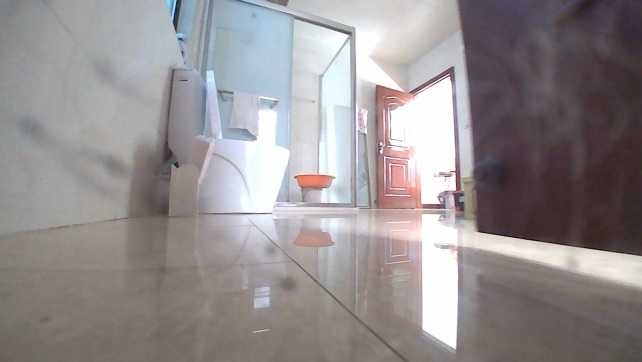toilet: (161, 65, 294, 215)
